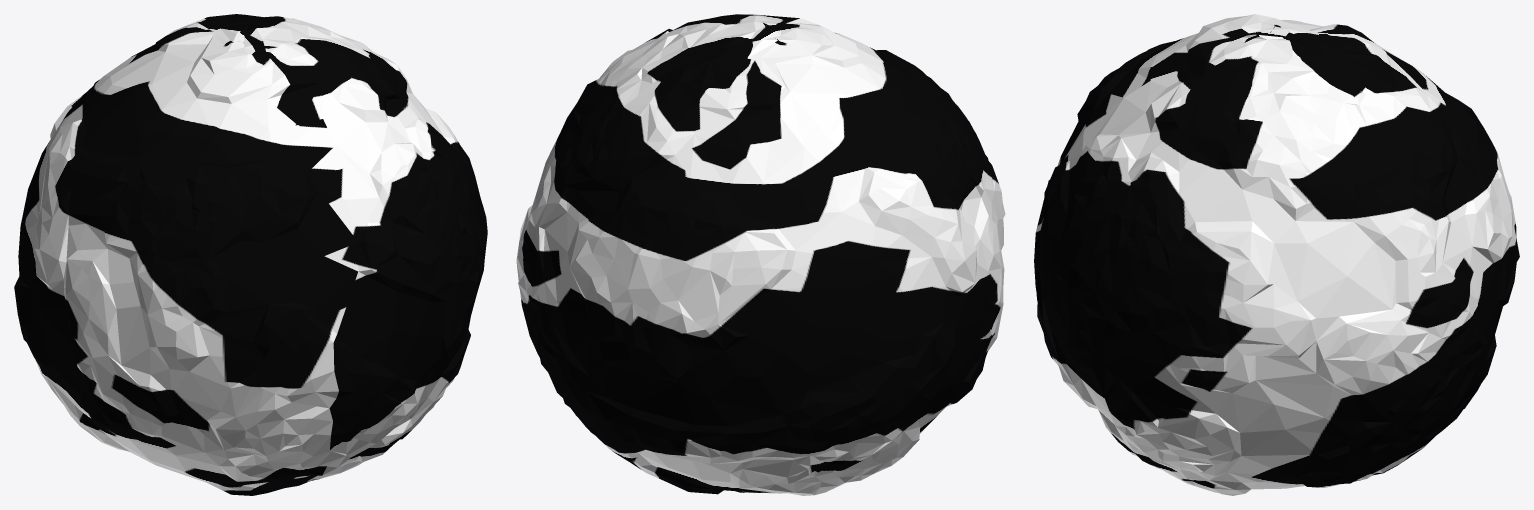
Rendered from SM_Env_Planet_01.fbx.
The picture shows the model from 3 angles, left to right: view 1: azimuth 30°, elevation 25°; view 2: azimuth 150°, elevation 25°; view 3: azimuth 270°, elevation 25°; orthographic projection. The views are drawn at different scales.
Parts seen in each view (by area): view 1: SM_Env_Planet_01_LOD0; view 2: SM_Env_Planet_01_LOD0; view 3: SM_Env_Planet_01_LOD0.
Boxes of the visible parts, x1,y1,x2,y2 form: SM_Env_Planet_01_LOD0: (14, 14, 487, 495); SM_Env_Planet_01_LOD0: (516, 14, 1005, 495); SM_Env_Planet_01_LOD0: (1034, 14, 1519, 495).
Size of the model in its own units: 46072 by 45735 by 46363.
1 material, 1 textured.
